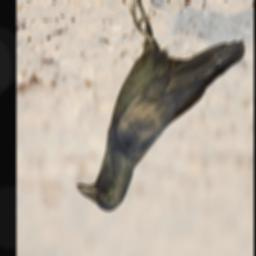Crow: (75, 0, 247, 213)
